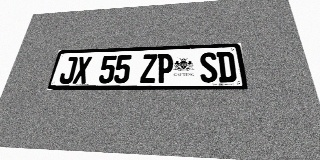5: (98, 55, 117, 83), (113, 55, 132, 83)
D: (216, 52, 237, 82)
J: (58, 57, 78, 84)
P: (156, 53, 173, 83)
S: (199, 52, 218, 83)
X: (72, 56, 92, 84)
Z: (140, 54, 157, 83)
